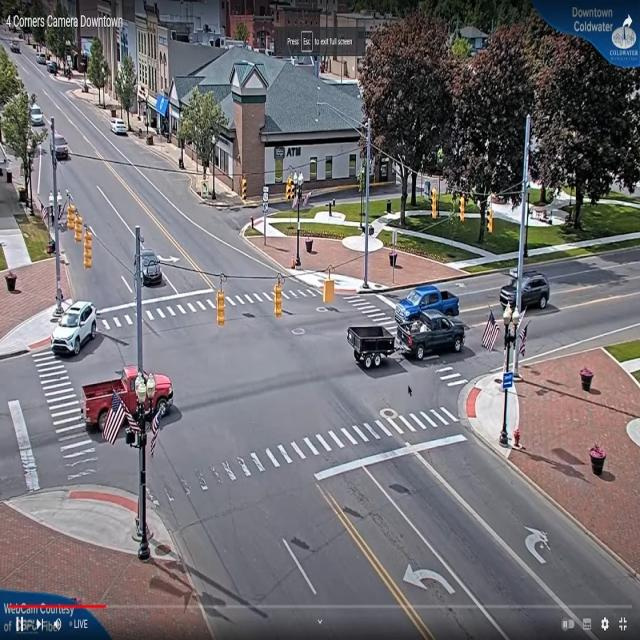car: (348, 320, 472, 364), (53, 305, 99, 358), (138, 249, 164, 286), (53, 133, 71, 161), (112, 121, 130, 138)
